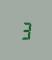three: (19, 19, 30, 40)
